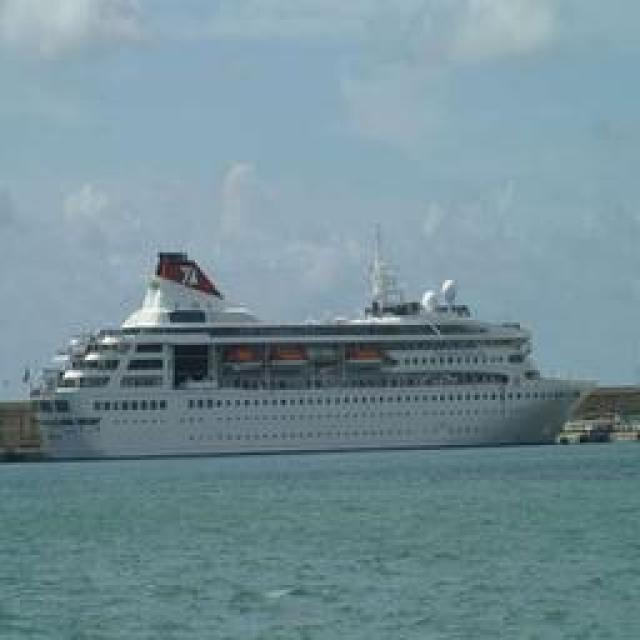CIV_Ship: (24, 244, 594, 458)
